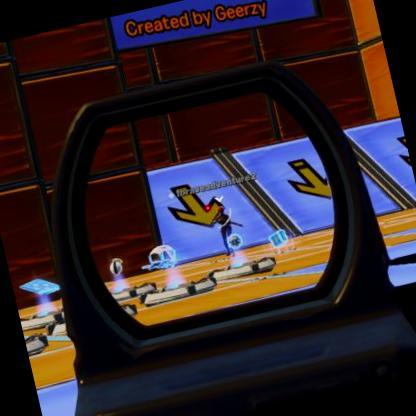person: (215, 209, 242, 258)
